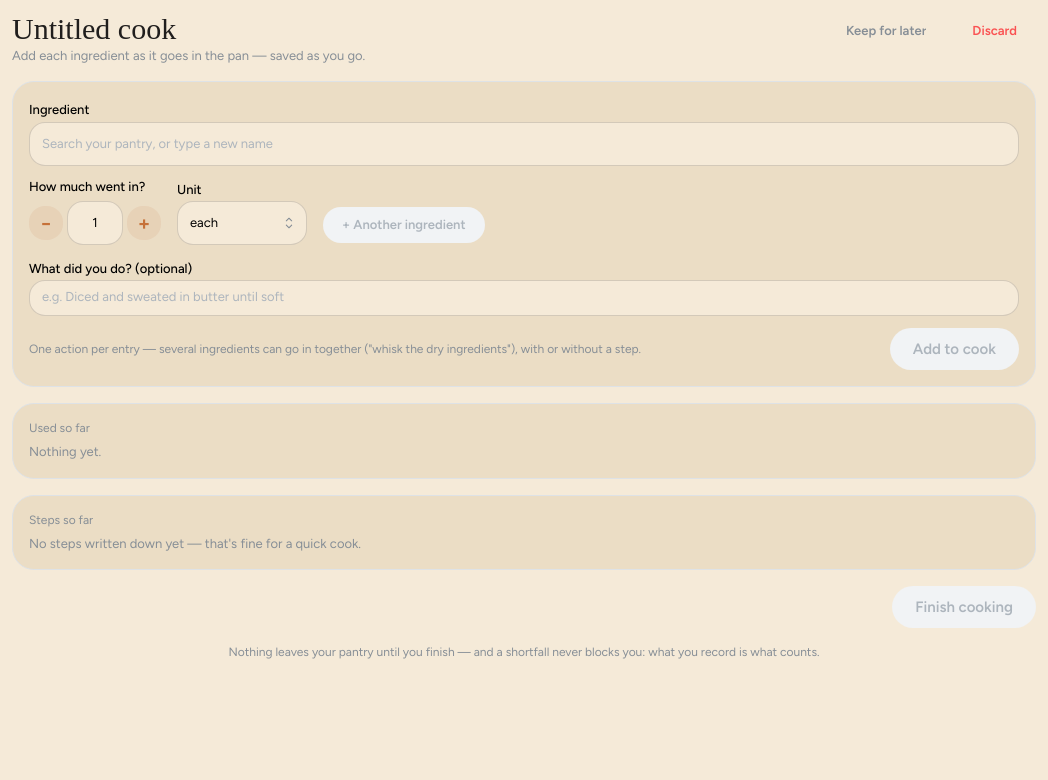
Scenario: AdHocCookPage › records an ingredient and a step as one entry
Type "Onion" into the field labelled "Ingredient".
click(524, 144); type("Onion")  # box [29,122,1019,166]
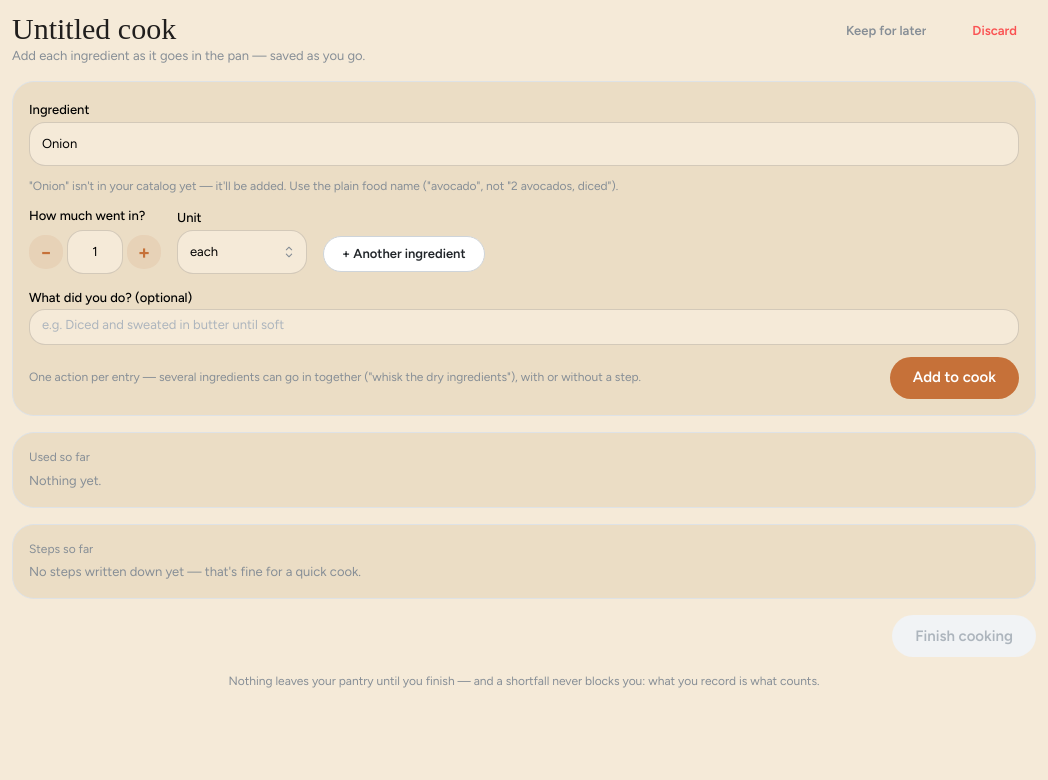
Replace the text in the field named "How much went in?" with "2" at [95, 252], box [67,230,123,274]
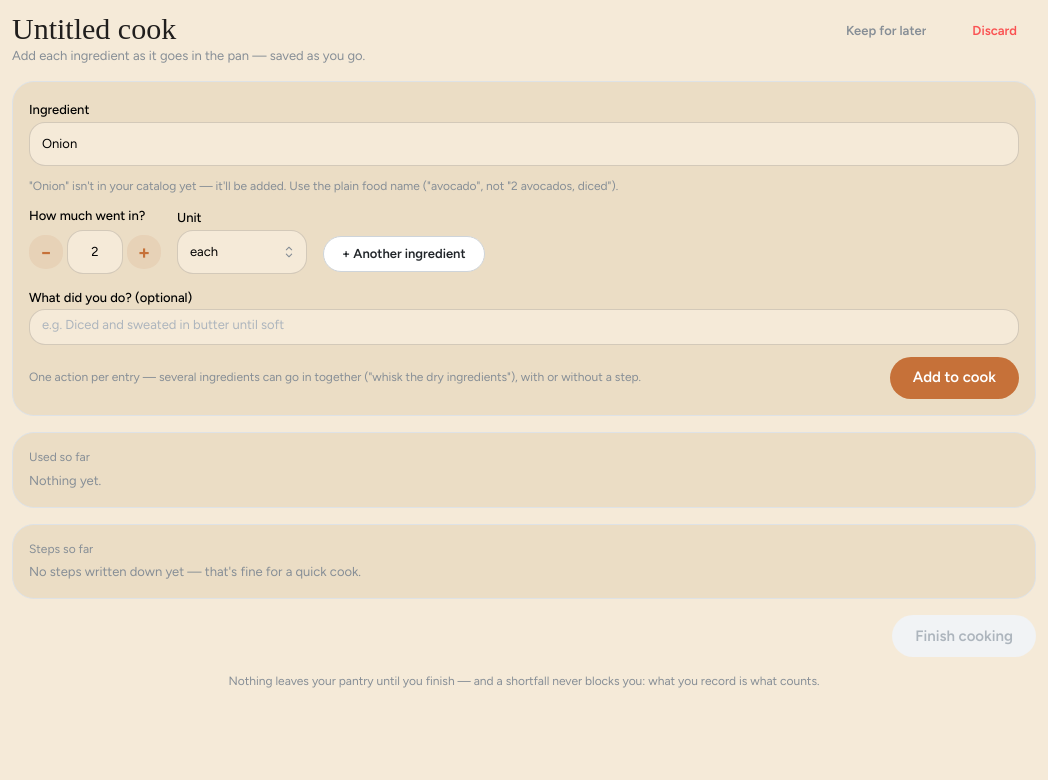
Type "Fry the onion." into the text box labelled "What did you do? (optional)".
click(524, 327); type("Fry the onion.")  # box [29,309,1019,345]
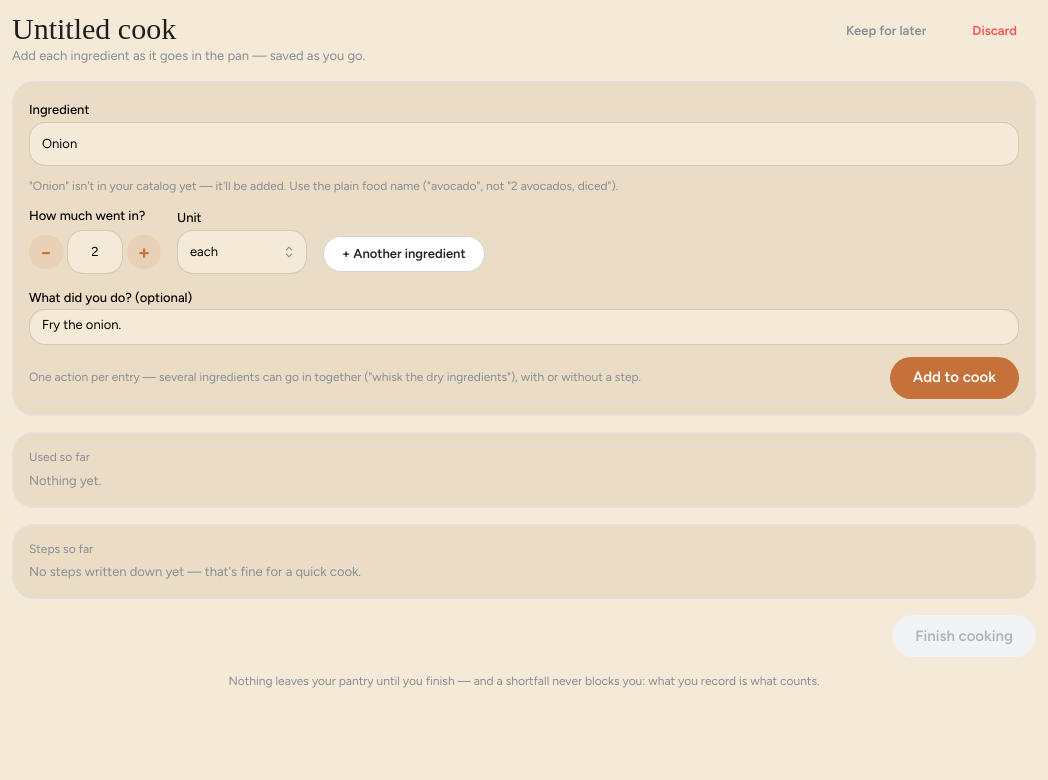
Click the button "Add to cook".
click(954, 378)  # box [890,357,1019,399]
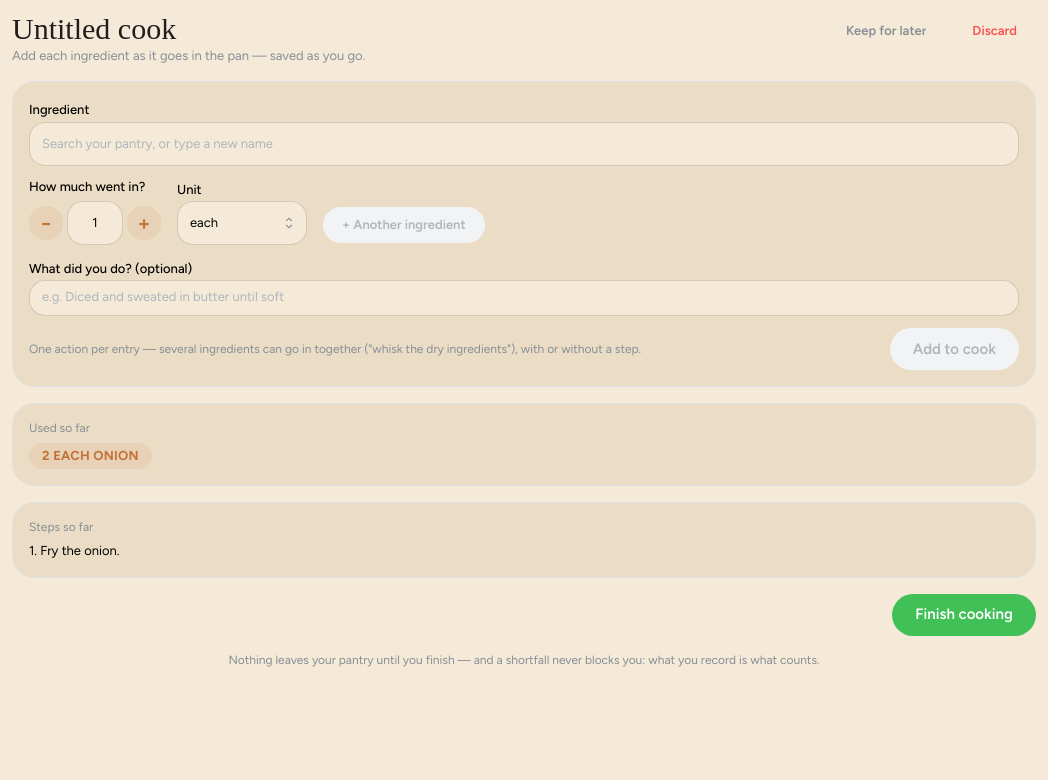
Now the text "2 each Onion" is shown, box [42,444,139,468]
Now the text "1. Fry the onion." is shown, box [29,543,120,558]
